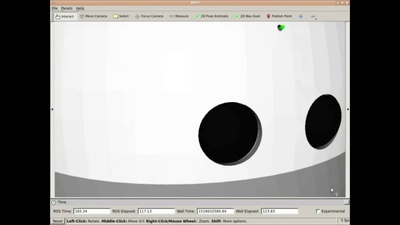mira_robot: (56, 21, 344, 194)
